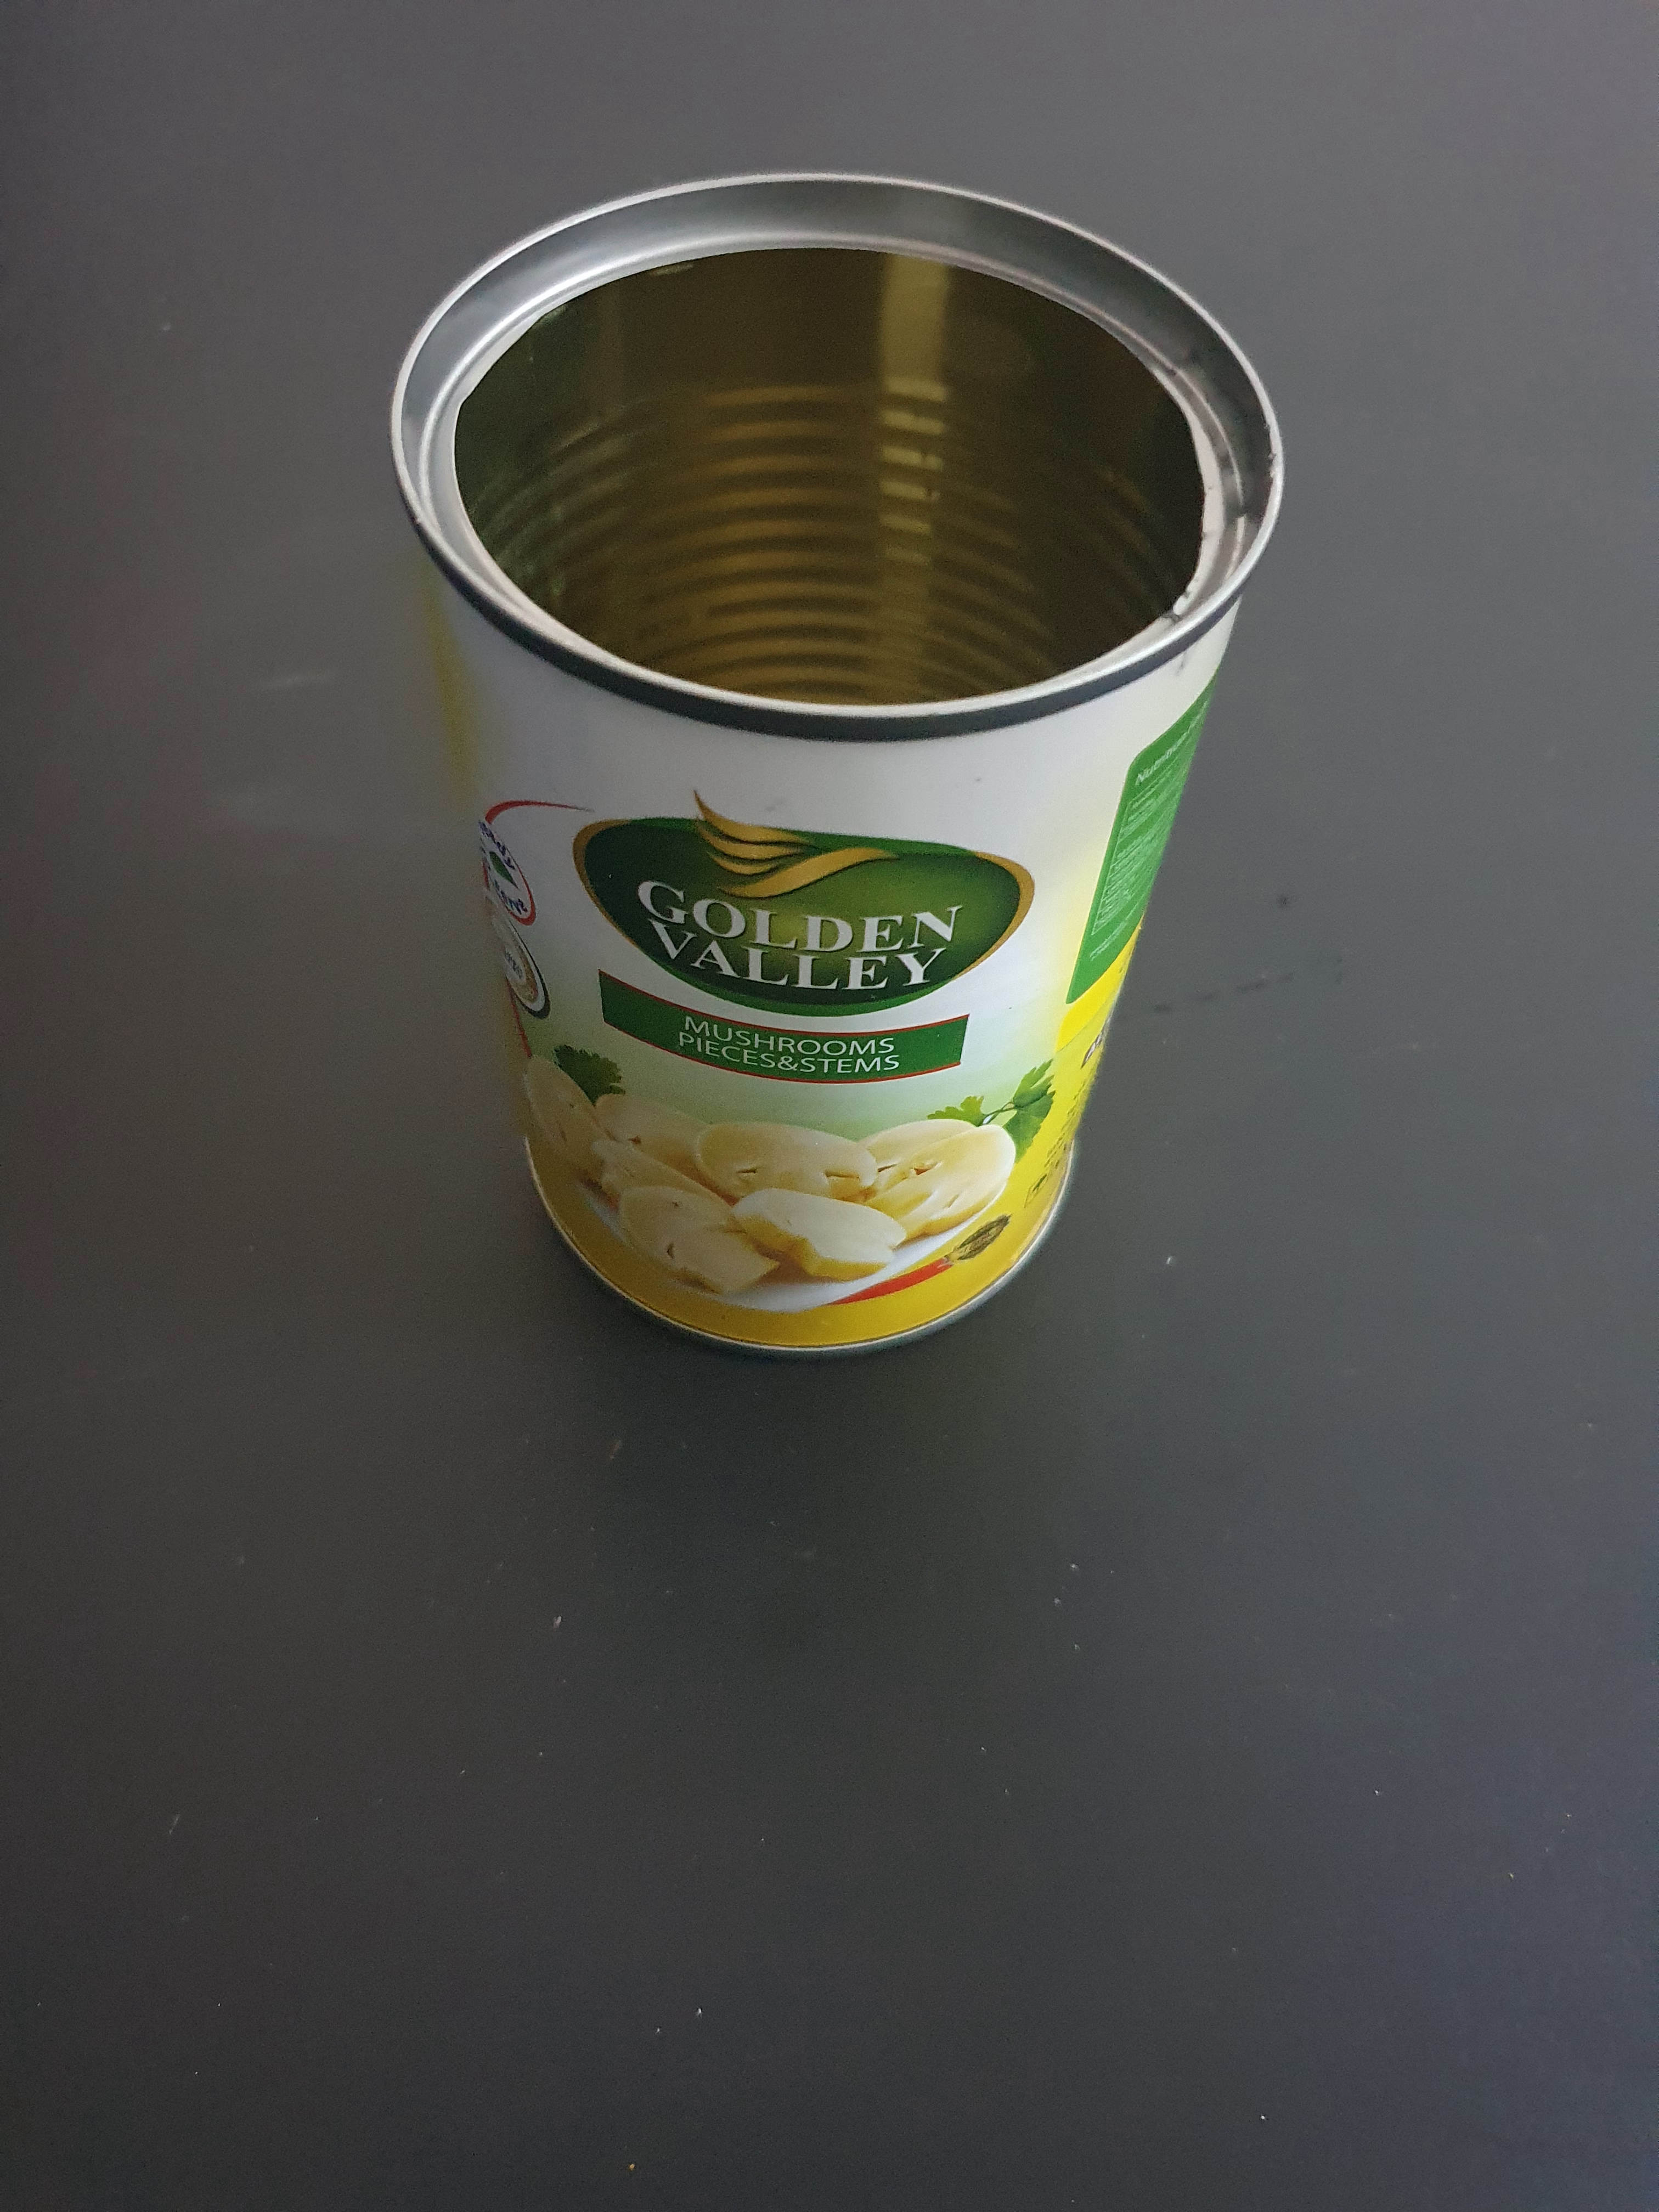metal: (338, 132, 1340, 1454)
